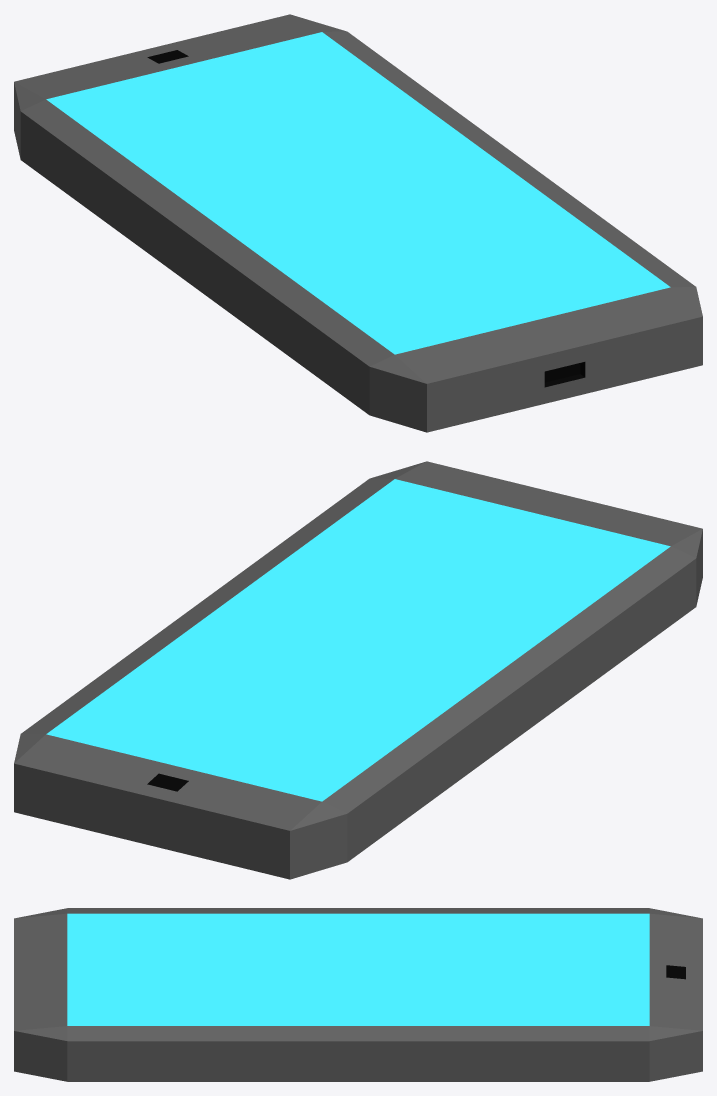
Rendered from Phone_Screen_On.fbx.
3 views of the same model, one above another, from view 1: azimuth 30°, elevation 25°; view 2: azimuth 150°, elevation 25°; view 3: azimuth 270°, elevation 25° (orthographic). The views are drawn at different scales.
Parts seen in each view (by area): view 1: Phone_Screen_On; view 2: Phone_Screen_On; view 3: Phone_Screen_On.
Boxes of the visible parts, x1,y1,x2,y2 form: Phone_Screen_On: [14, 14, 702, 432]; Phone_Screen_On: [14, 461, 702, 879]; Phone_Screen_On: [14, 908, 702, 1081].
Size of the model in its own units: 113 by 19.91 by 247.
